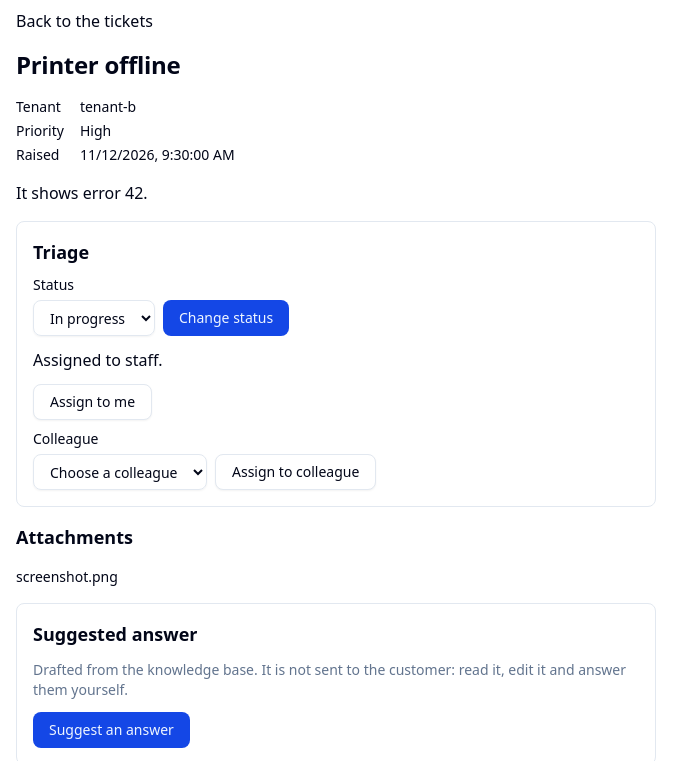
Scenario: when no article answers the ticket the page says so and drafts nothing
The width and height of the screenshot is (673, 761).
Click the button "Suggest an answer": coordinates (111, 730) [33,712,190,748]
(page scrolled)
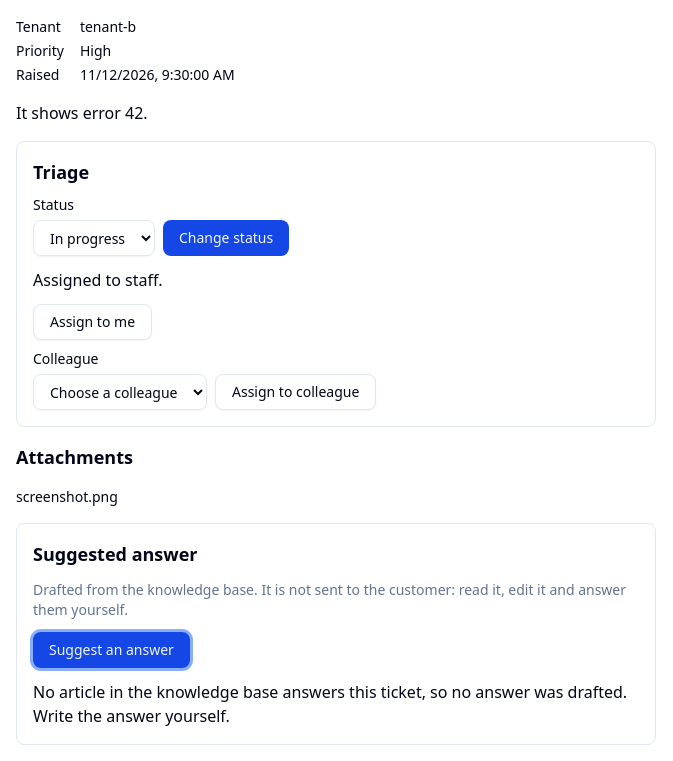
Expected: the message shows "No article in the knowledge base answers this ticket", [33,681,627,727]
